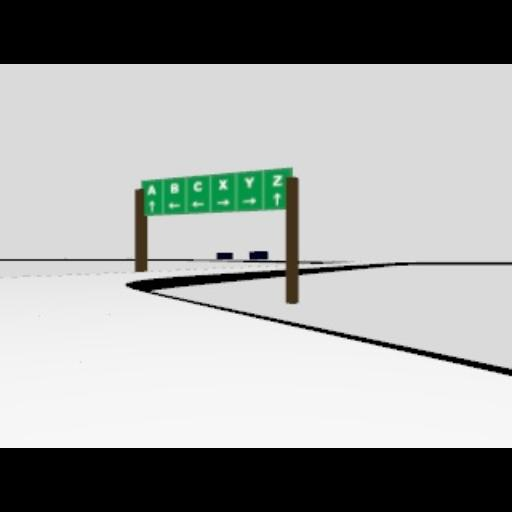A: (145, 184, 155, 196)
B: (169, 182, 179, 194)
C: (192, 180, 202, 192)
Left: (191, 200, 205, 208), (167, 202, 181, 208)
Right: (242, 197, 256, 205), (216, 200, 230, 206)
Straight: (147, 199, 155, 213), (272, 192, 280, 204)
X: (217, 178, 227, 188)
Y: (244, 176, 254, 188)
Z: (272, 174, 284, 186)
